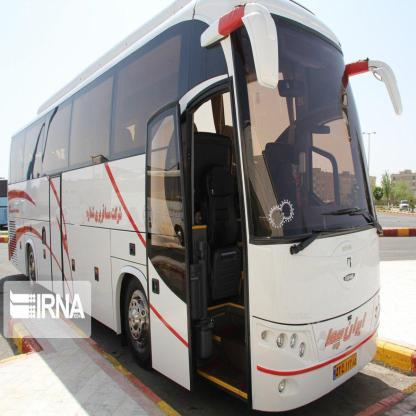Bus: (0, 0, 394, 416), (0, 176, 11, 240)
